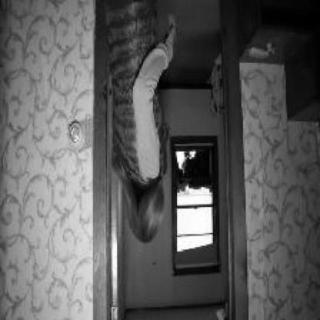other: (112, 2, 146, 182)
